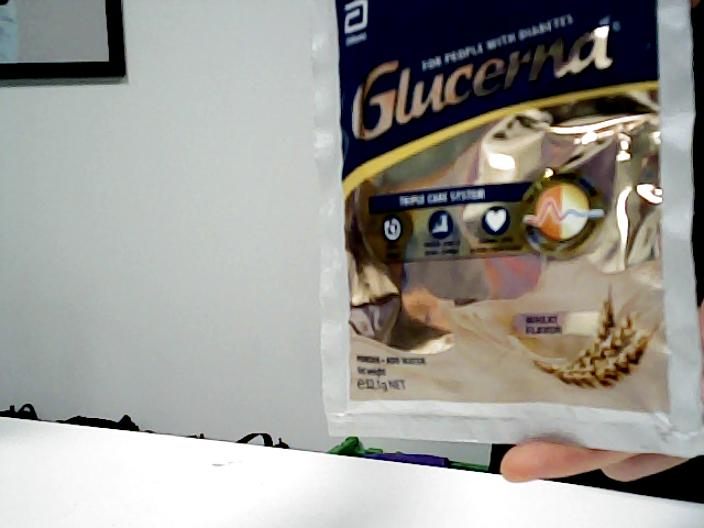Adult_Milk_0-99g_Halal_NonHealthy: (331, 5, 702, 435)
